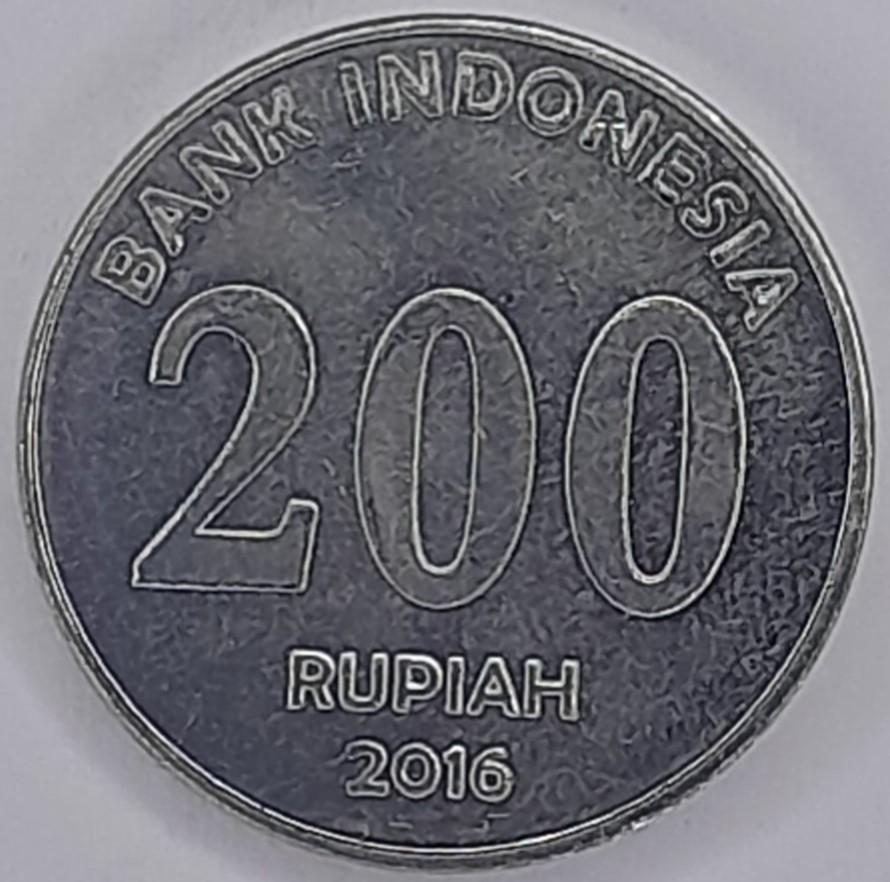coin_200_e2016: (0, 15, 890, 882)
